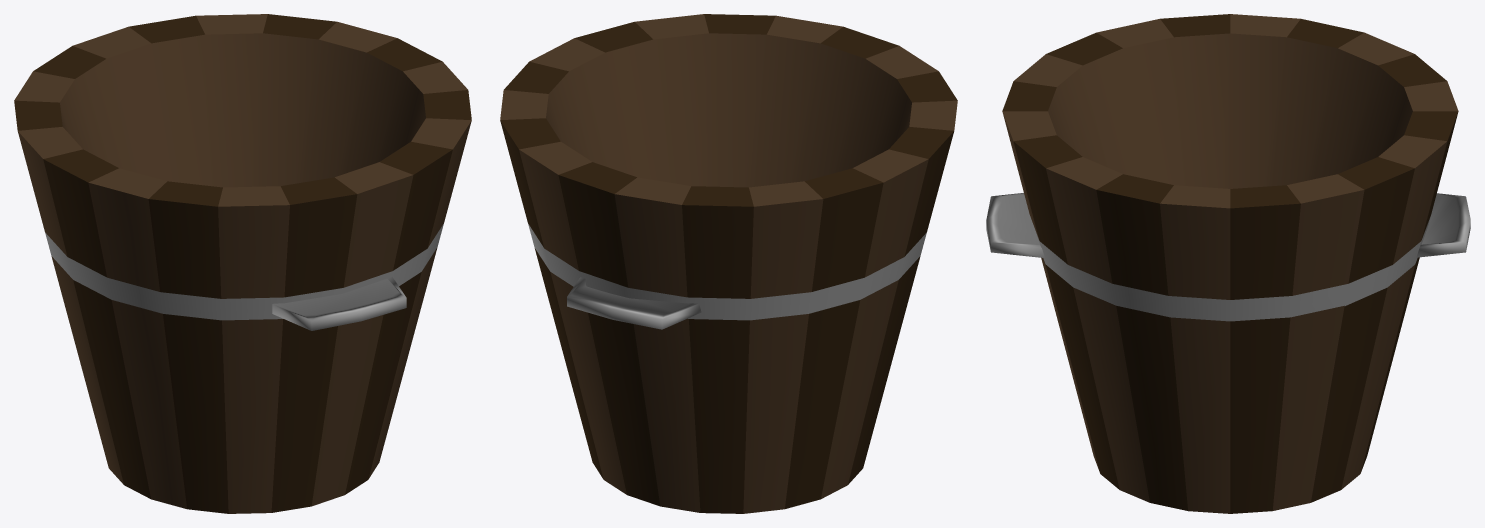
The model's file is seau.fbx.
3 views of the same model, side by side, from view 1: azimuth 30°, elevation 25°; view 2: azimuth 150°, elevation 25°; view 3: azimuth 270°, elevation 25° (orthographic).
Parts seen in each view (by area): view 1: pCylinder1, pCube4; view 2: pCylinder1, pCube3; view 3: pCylinder1, pCube4, pCube3.
Part boxes in pixels (bbox=[...]): pCylinder1: bbox=[14, 14, 471, 513]; pCube4: bbox=[272, 277, 406, 330]; pCylinder1: bbox=[500, 14, 957, 513]; pCube3: bbox=[567, 277, 701, 329]; pCylinder1: bbox=[1002, 14, 1458, 513]; pCube4: bbox=[986, 193, 1044, 257]; pCube3: bbox=[1416, 193, 1470, 257].
Bounding box in the file's own units: 3.36 × 2.78 × 3.54.
